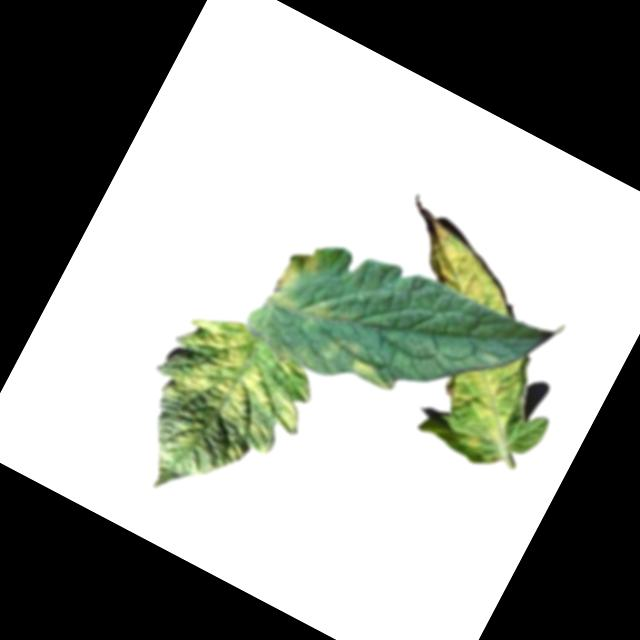Leaf_Mold: (154, 302, 329, 458), (406, 211, 532, 318), (427, 333, 534, 456), (263, 236, 360, 335), (319, 326, 401, 394)
